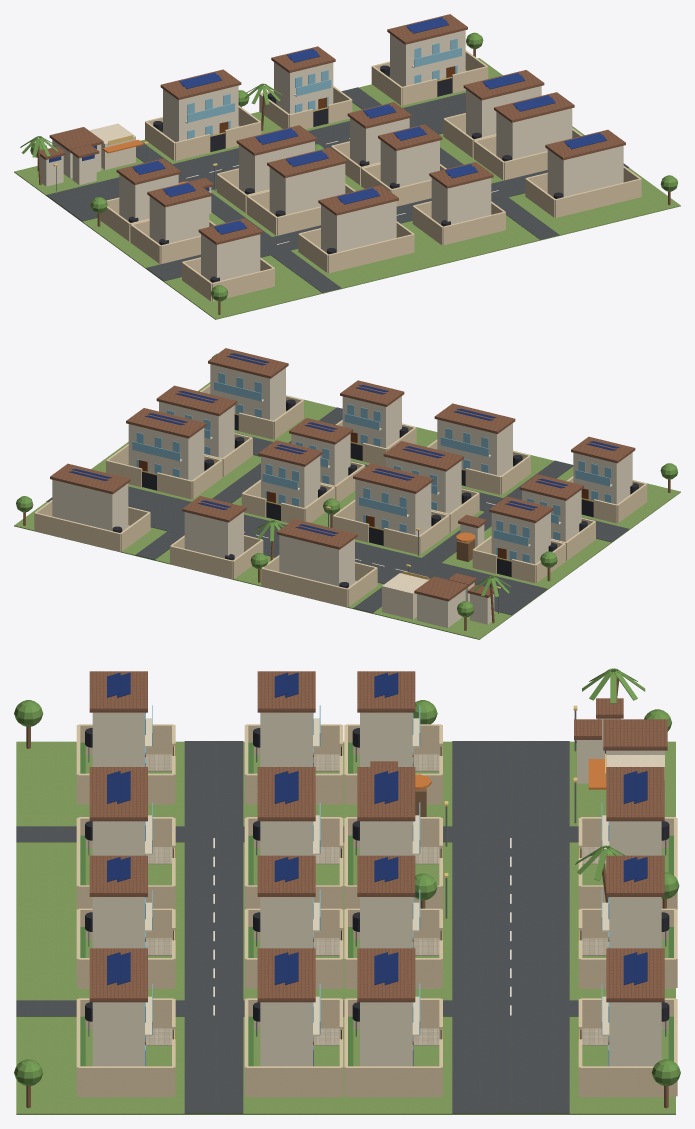
File: hillview-quarter.glb
3 views of the same model, one above another, from view 1: azimuth 30°, elevation 25°; view 2: azimuth 150°, elevation 25°; view 3: azimuth 270°, elevation 25° (orthographic). The views are drawn at different scales.
Parts seen in each view (by area): view 1: hvq_ground, hvq_hillview-boulevard, hvq_d-far_block, hvq_d-mid_block, hvq_c-far_block, hvq_c-mid_block, hvq_n-far_block, hvq_ne_block, hvq_hillview-south-road, hvq_d-east_block, hvq_d-w_block, hvq_c-w_block (+52 smaller); view 2: hvq_ground, hvq_hillview-boulevard, hvq_n-far_block, hvq_ne_block, hvq_s-far_block, hvq_se_block, hvq_d-far_block, hvq_d-mid_block, hvq_n-east_block, hvq_sw_block, hvq_s-east_block, hvq_d-w_block (+55 smaller); view 3: hvq_ground, hvq_hillview-boulevard, hvq_hillview-south-road, hvq_s-far_block, hvq_c-far_block, hvq_d-far_block, hvq_n-far_block, hvq_c-far_wall_e, hvq_s-far_wall_e, hvq_d-far_wall_e, hvq_c-w_block, hvq_d-w_block (+55 smaller).
Part boxes in pixels (bbox=[...]): hvq_ground: bbox=[14, 58, 680, 319]; hvq_hillview-boulevard: bbox=[46, 92, 465, 221]; hvq_d-far_block: bbox=[547, 145, 623, 197]; hvq_d-mid_block: bbox=[321, 201, 396, 252]; hvq_c-far_block: bbox=[496, 108, 572, 159]; hvq_c-mid_block: bbox=[269, 163, 345, 215]; hvq_n-far_block: bbox=[390, 30, 465, 86]; hvq_ne_block: bbox=[163, 85, 238, 141]; hvq_hillview-south-road: bbox=[146, 163, 629, 281]; hvq_d-east_block: bbox=[431, 178, 491, 224]; hvq_d-w_block: bbox=[201, 234, 260, 280]; hvq_c-w_block: bbox=[149, 196, 209, 243]; hvq_ground: bbox=[14, 382, 680, 639]; hvq_hillview-boulevard: bbox=[46, 486, 547, 615]; hvq_n-far_block: bbox=[52, 479, 128, 531]; hvq_ne_block: bbox=[279, 535, 354, 586]; hvq_s-far_block: bbox=[128, 424, 204, 480]; hvq_se_block: bbox=[355, 479, 431, 535]; hvq_d-far_block: bbox=[210, 364, 285, 420]; hvq_d-mid_block: bbox=[437, 419, 512, 475]; hvq_n-east_block: bbox=[184, 512, 243, 558]; hvq_sw_block: bbox=[491, 512, 550, 564]; hvq_s-east_block: bbox=[261, 456, 320, 507]; hvq_d-w_block: bbox=[573, 452, 632, 504]; hvq_ground: bbox=[16, 741, 675, 1114]; hvq_hillview-boulevard: bbox=[452, 741, 569, 1113]; hvq_hillview-south-road: bbox=[184, 741, 243, 1113]; hvq_s-far_block: bbox=[360, 1002, 412, 1066]; hvq_c-far_block: bbox=[260, 1002, 312, 1066]; hvq_d-far_block: bbox=[92, 1002, 144, 1066]; hvq_n-far_block: bbox=[609, 1002, 661, 1066]; hvq_c-far_wall_e: bbox=[246, 1066, 341, 1097]; hvq_s-far_wall_e: bbox=[346, 1066, 441, 1097]; hvq_d-far_wall_e: bbox=[78, 1066, 173, 1097]; hvq_c-w_block: bbox=[260, 712, 312, 766]; hvq_d-w_block: bbox=[92, 712, 144, 766].
Size of the model in its own units: 61.36 by 7.32 by 45.5.
Materials: 20 (6 with a texture image).
